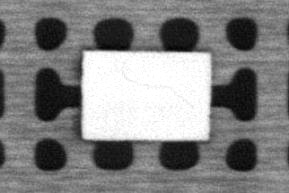DIE_CRACK: (122, 71, 196, 109)
